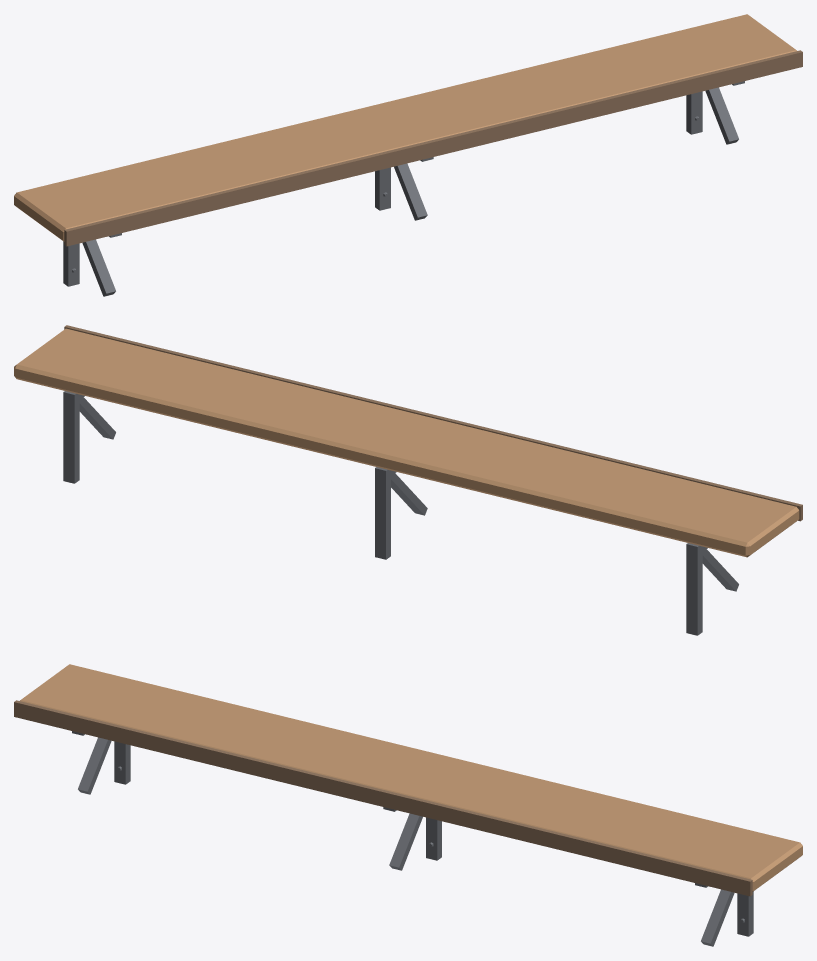
Rendered from Garage_Shelf_Wall.glb.
3 renders of one model, top to bottom at view 1: azimuth 30°, elevation 25°; view 2: azimuth 150°, elevation 25°; view 3: azimuth 330°, elevation 25°, orthographic.
Visible parts, largest first — view 1: Garage_Shelf_Wall; view 2: Garage_Shelf_Wall; view 3: Garage_Shelf_Wall.
Part boxes in pixels (x1,y1,x2,y2): Garage_Shelf_Wall: (14,14,802,296); Garage_Shelf_Wall: (14,325,802,635); Garage_Shelf_Wall: (14,664,802,946).
Bounding box in the file's own units: 2.6 × 0.35 × 0.3325.
